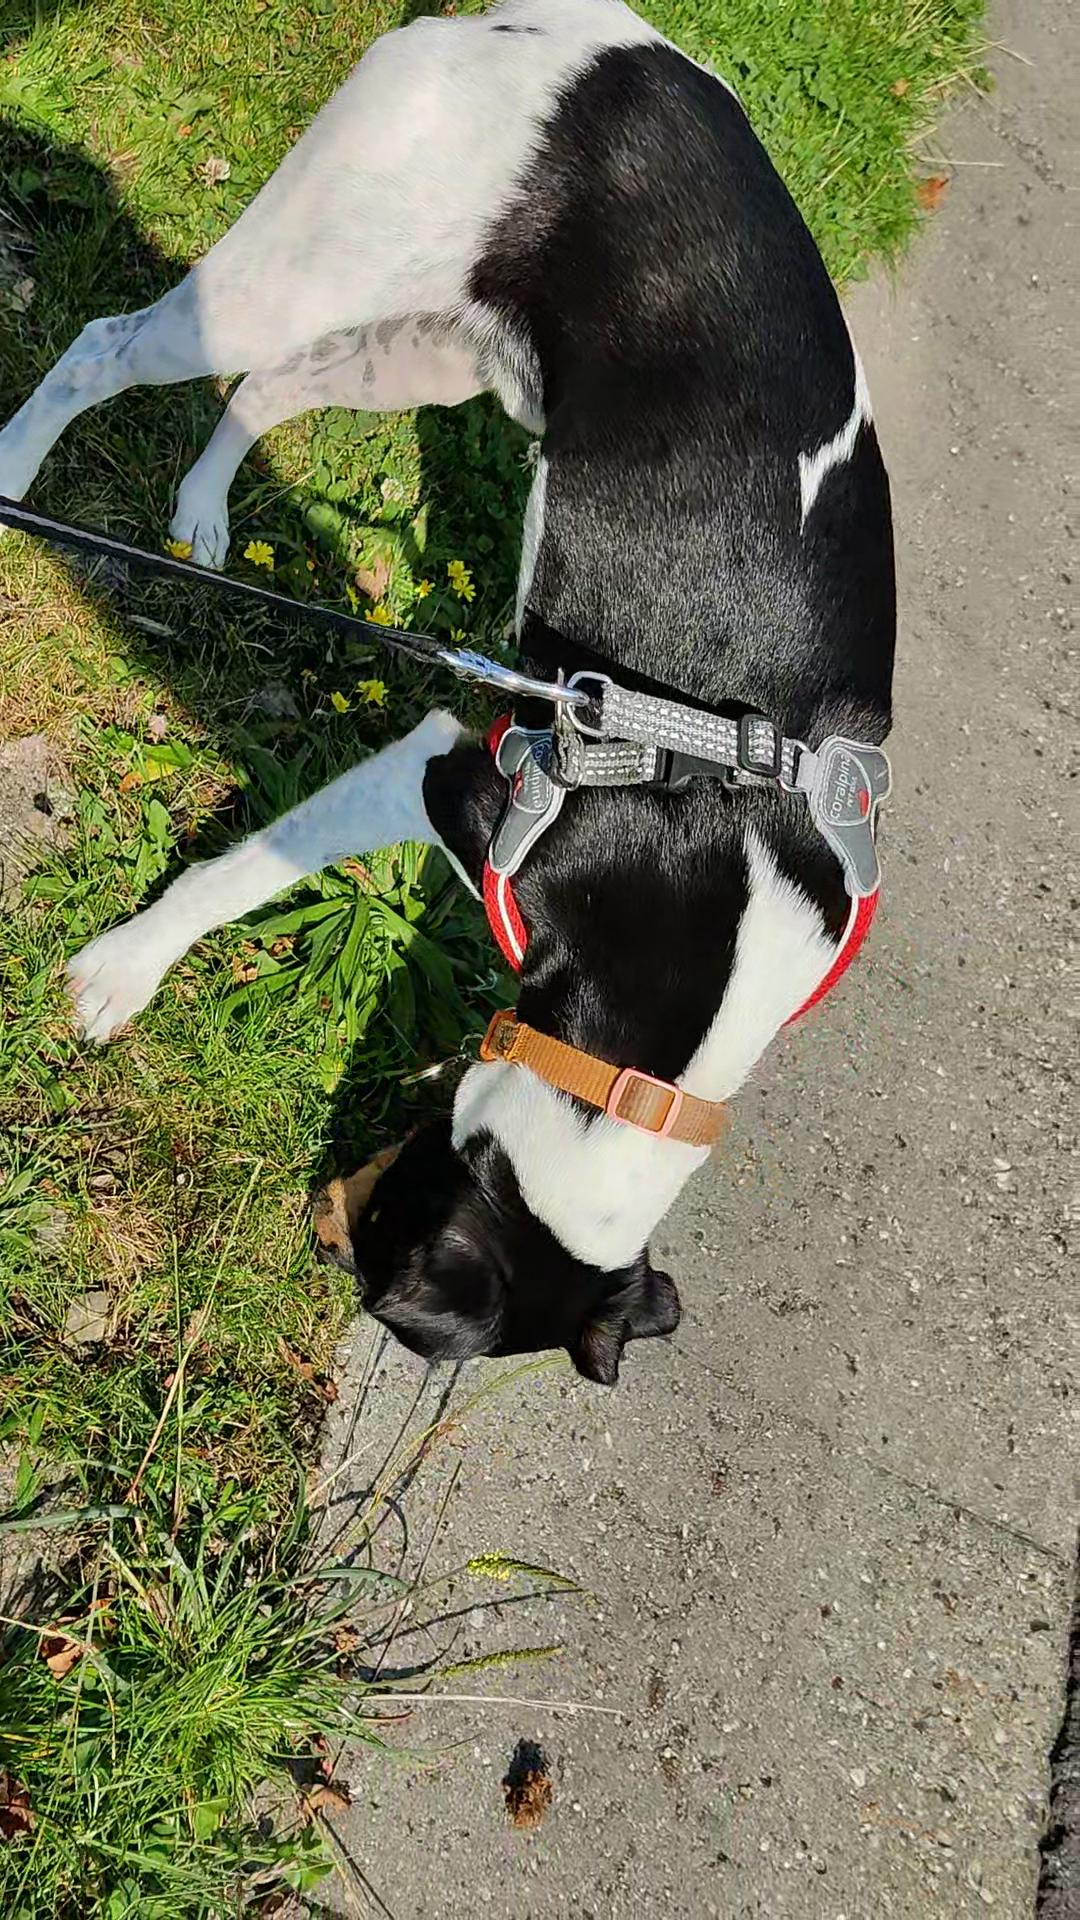Dog: (0, 0, 909, 1389)
